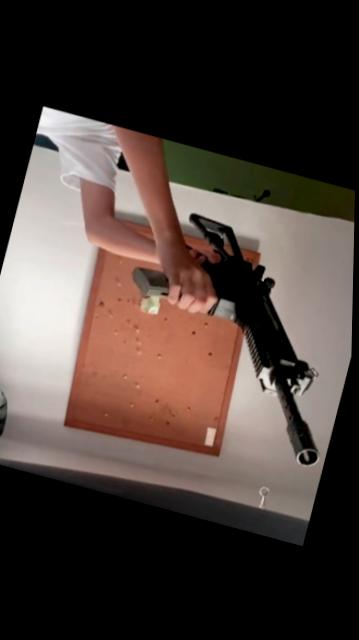rifle: (95, 192, 356, 473)
